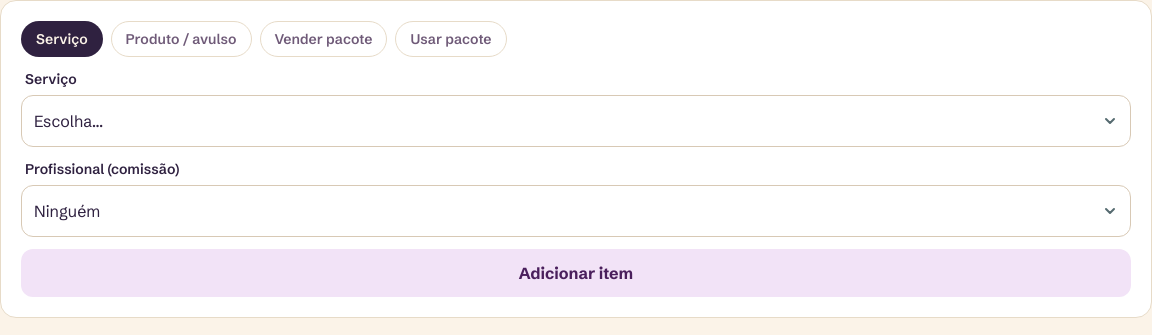
Test case: OrderItemForm › com cliente de outro vocabulário o aviso diz "o cliente"
The image size is (1152, 335).
Click the button "Usar pacote".
click(451, 39)  # box [395,21,506,57]
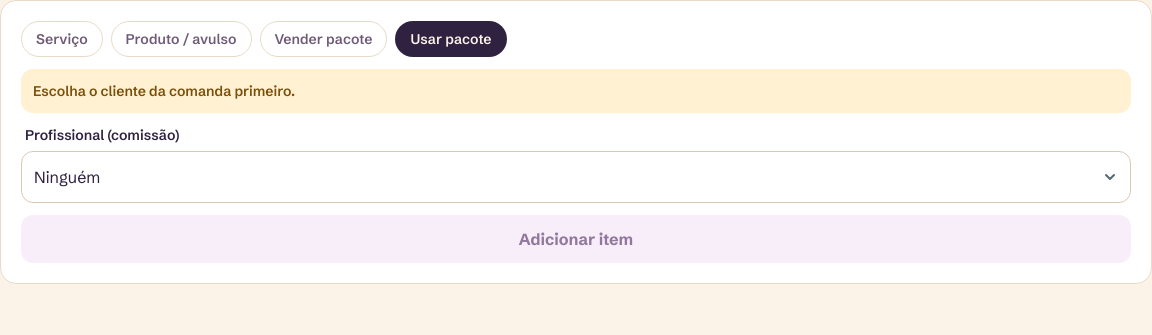
Now the text "Escolha o cliente da comanda primeiro." is shown, box [21,69,1131,113]
